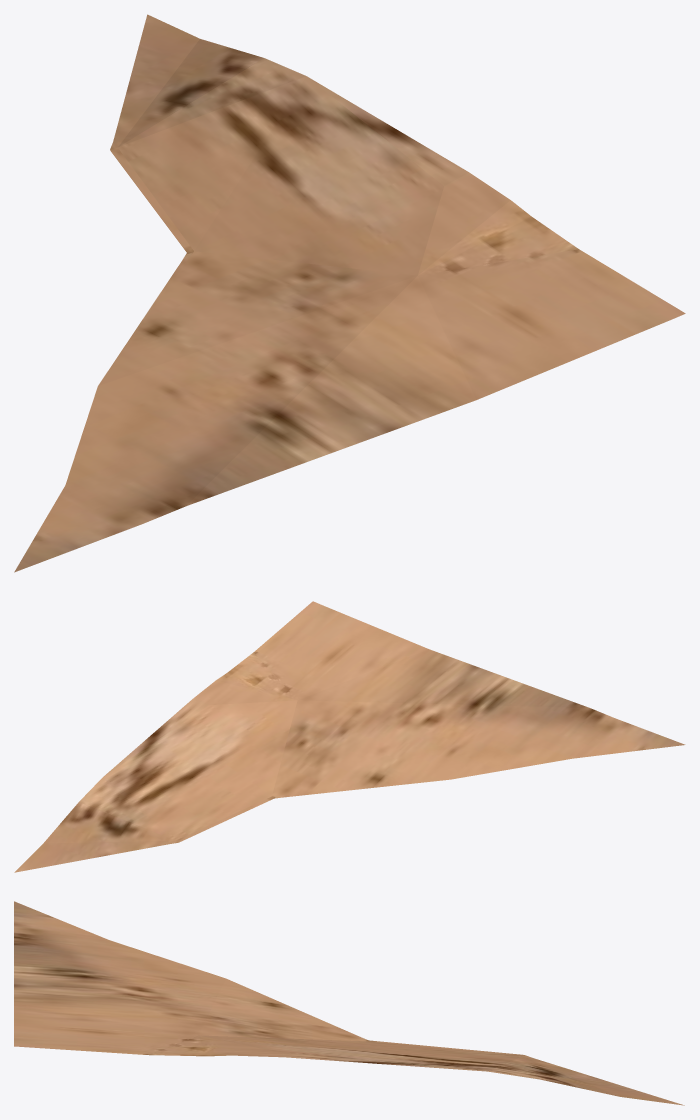
3 views of the same model, one above another, from view 1: azimuth 30°, elevation 25°; view 2: azimuth 150°, elevation 25°; view 3: azimuth 270°, elevation 25° (orthographic). The views are drawn at different scales.
Bounding box in the file's own units: 0.9174 × 0.124 × 1.27.
Materials: 1 (1 with a texture image).
